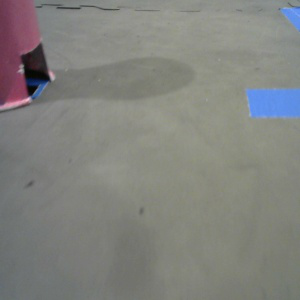middle: (1, 1, 55, 111)
